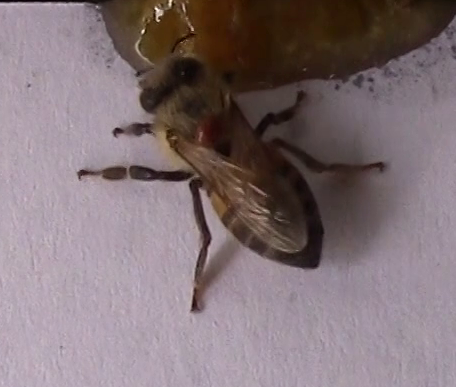Varroa destructor: (190, 112, 231, 150)
